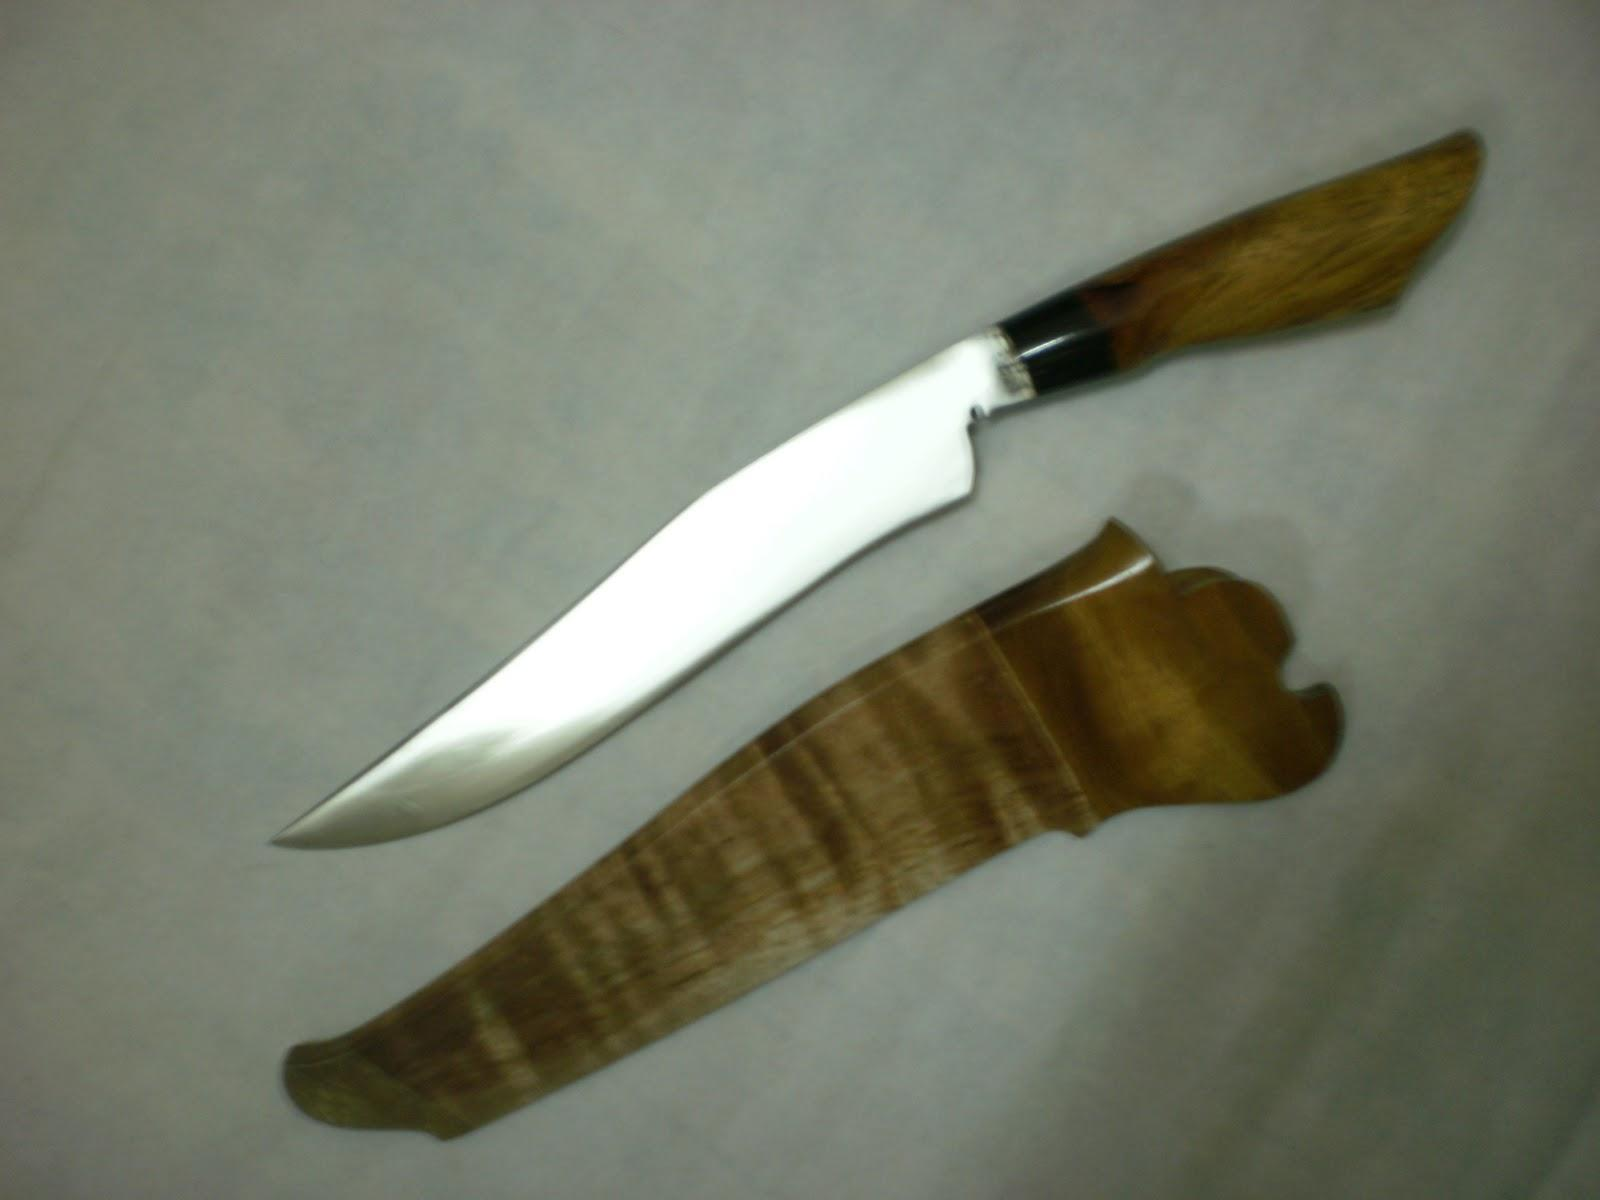faca: (273, 131, 1484, 848)
